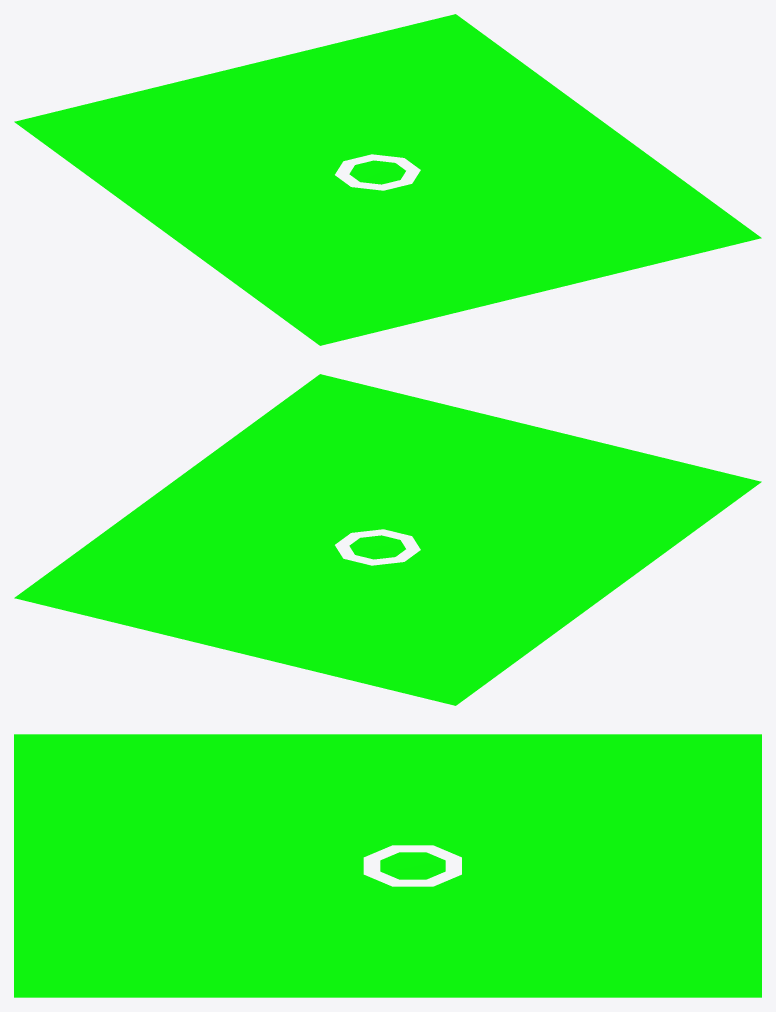
File: s06a_na1-floor.glb
3 views of the same model, one above another, from view 1: azimuth 30°, elevation 25°; view 2: azimuth 150°, elevation 25°; view 3: azimuth 270°, elevation 25° (orthographic). The views are drawn at different scales.
Visible parts, largest first — view 1: collision_floor-colonly; view 2: collision_floor-colonly; view 3: collision_floor-colonly.
Boxes of the visible parts, bbox=[...] form: collision_floor-colonly: bbox=[14, 14, 761, 345]; collision_floor-colonly: bbox=[14, 374, 761, 705]; collision_floor-colonly: bbox=[14, 734, 761, 997].
Size of the model in its own units: 75 by 0.1016 by 90.
